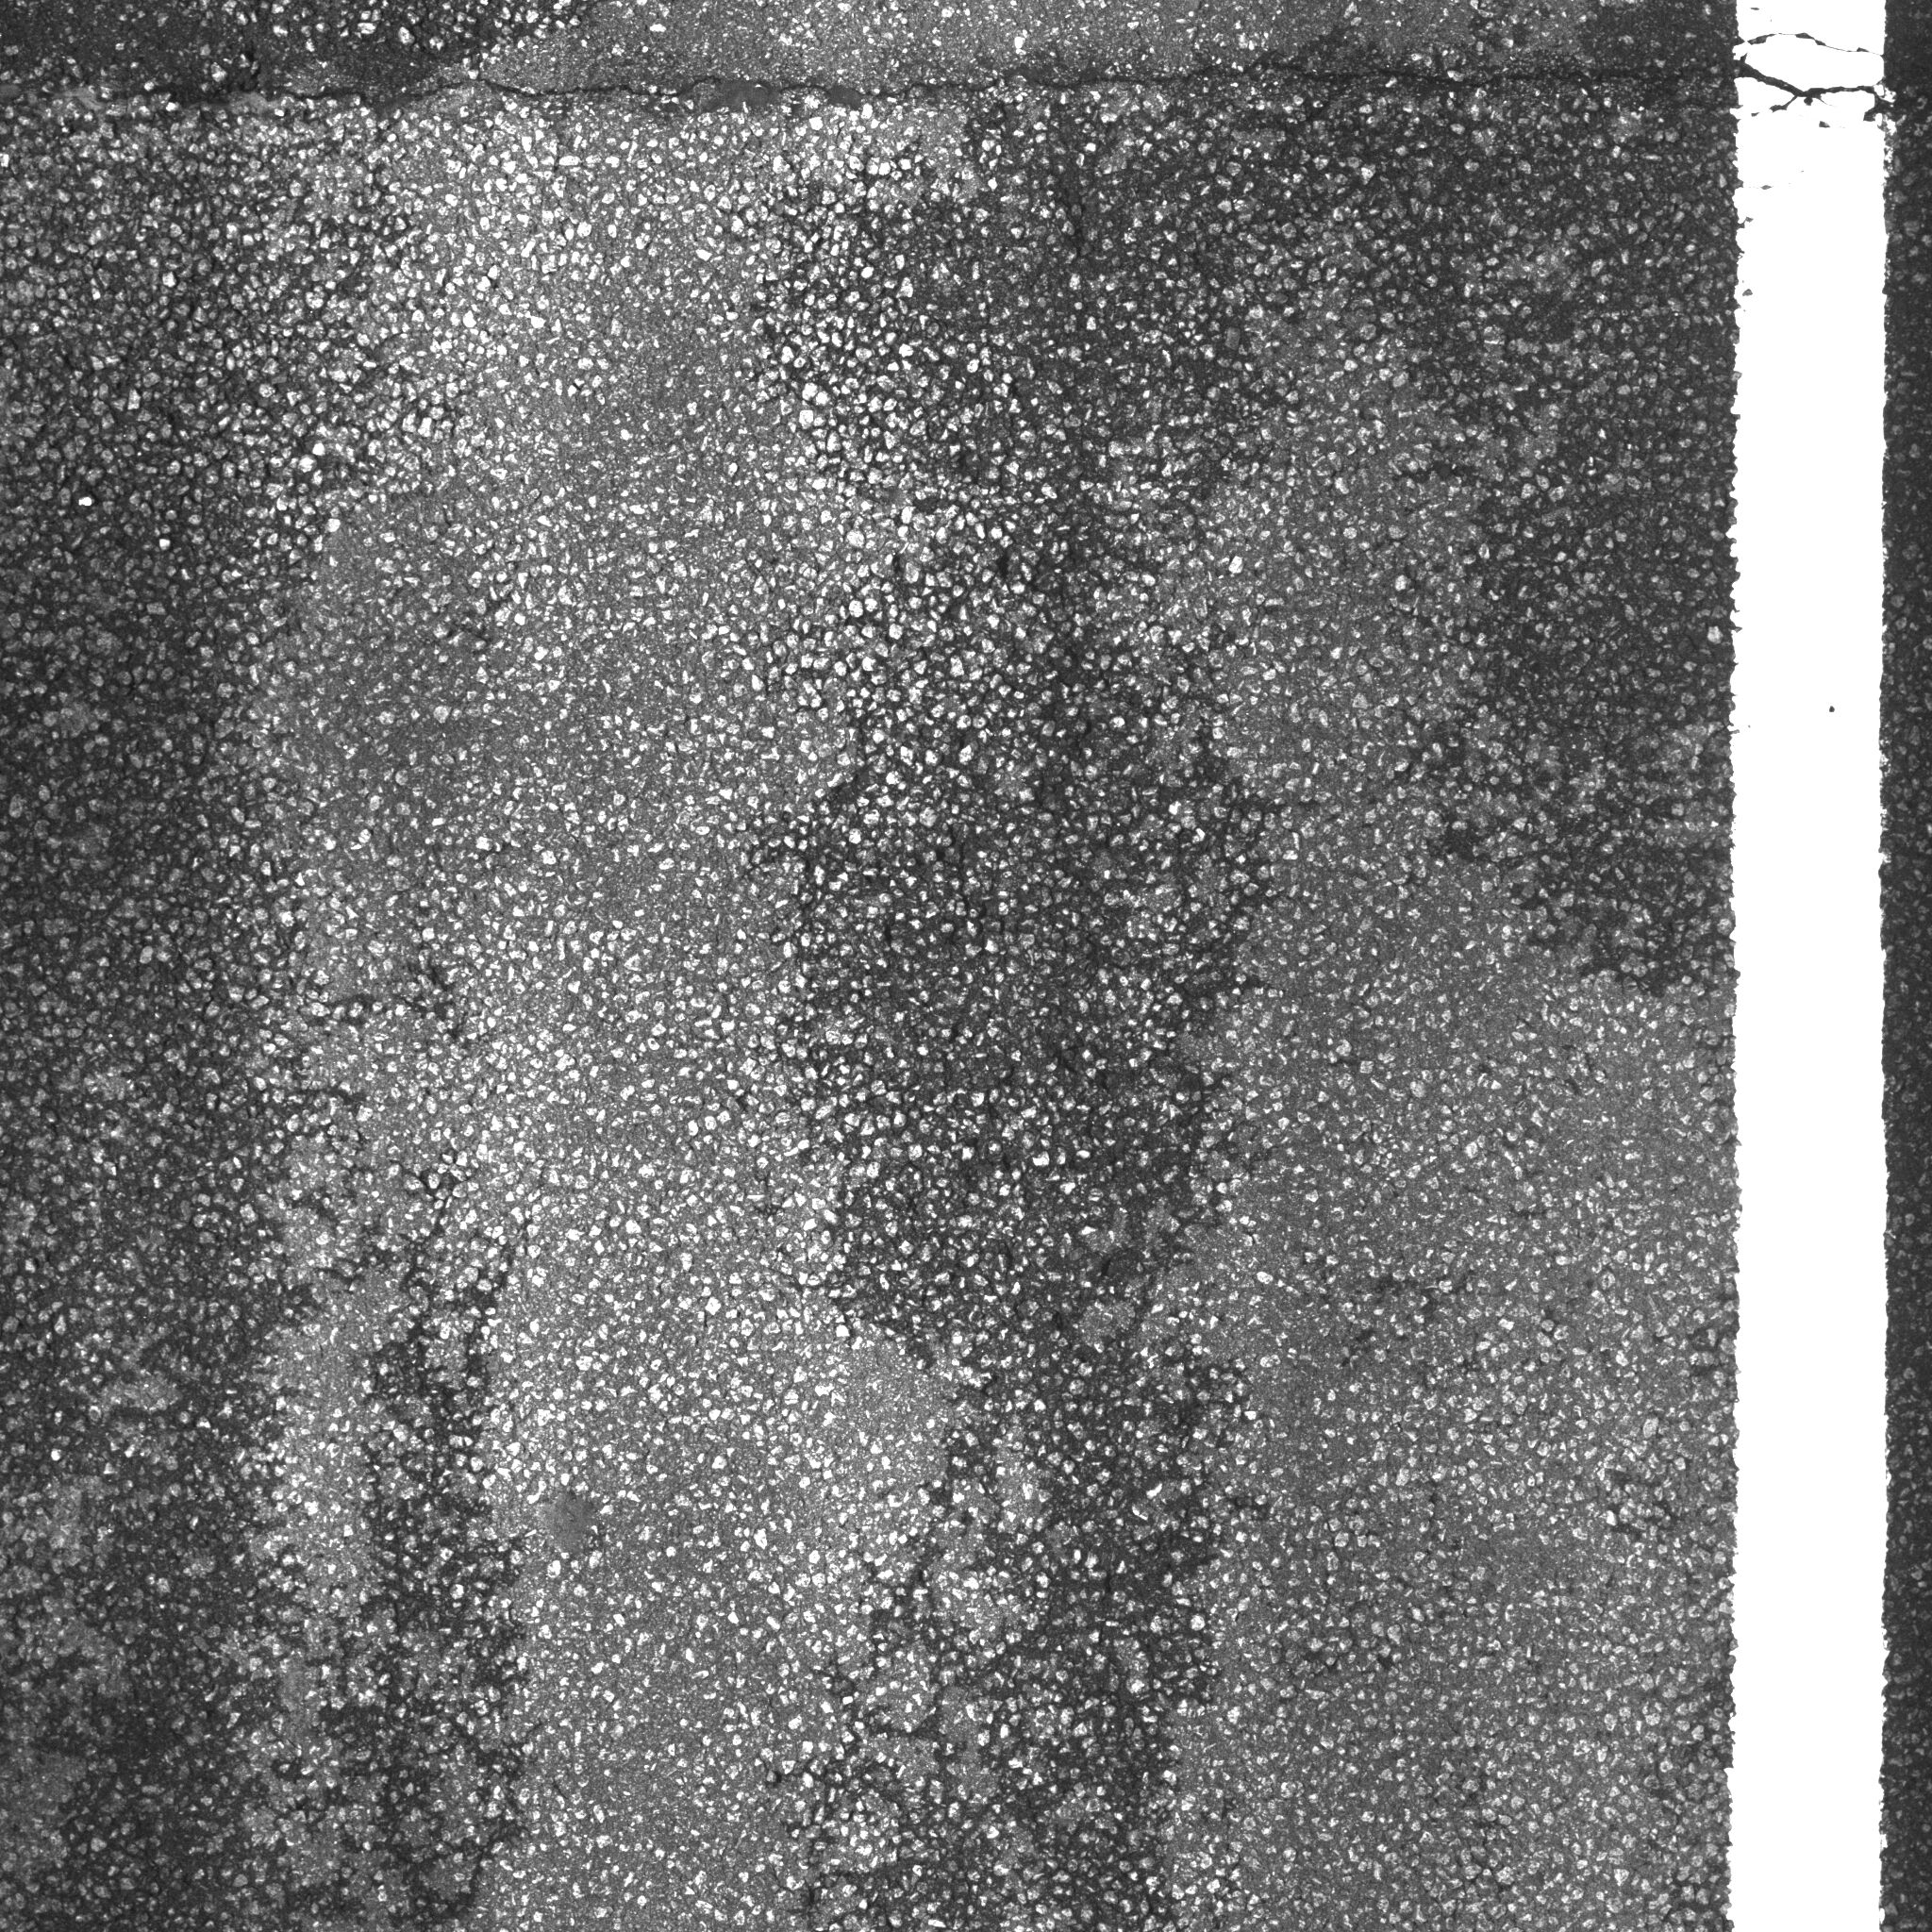transeverse: (64, 21, 1921, 166)
